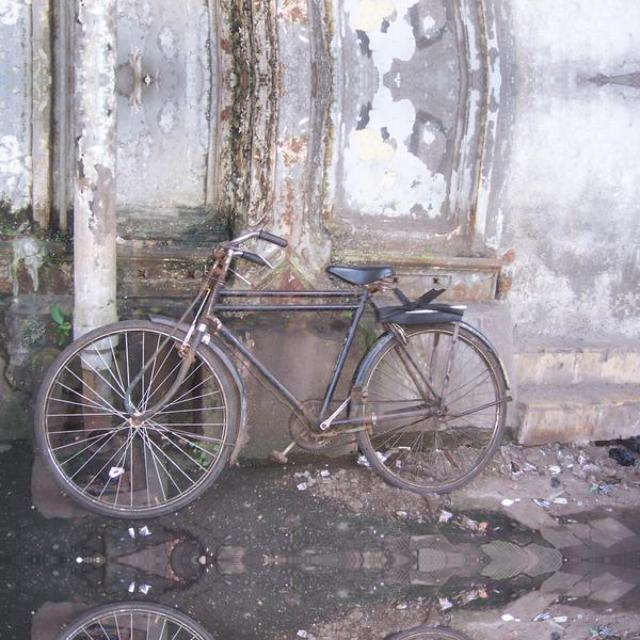obstacle: (38, 224, 560, 530), (38, 589, 559, 640)
